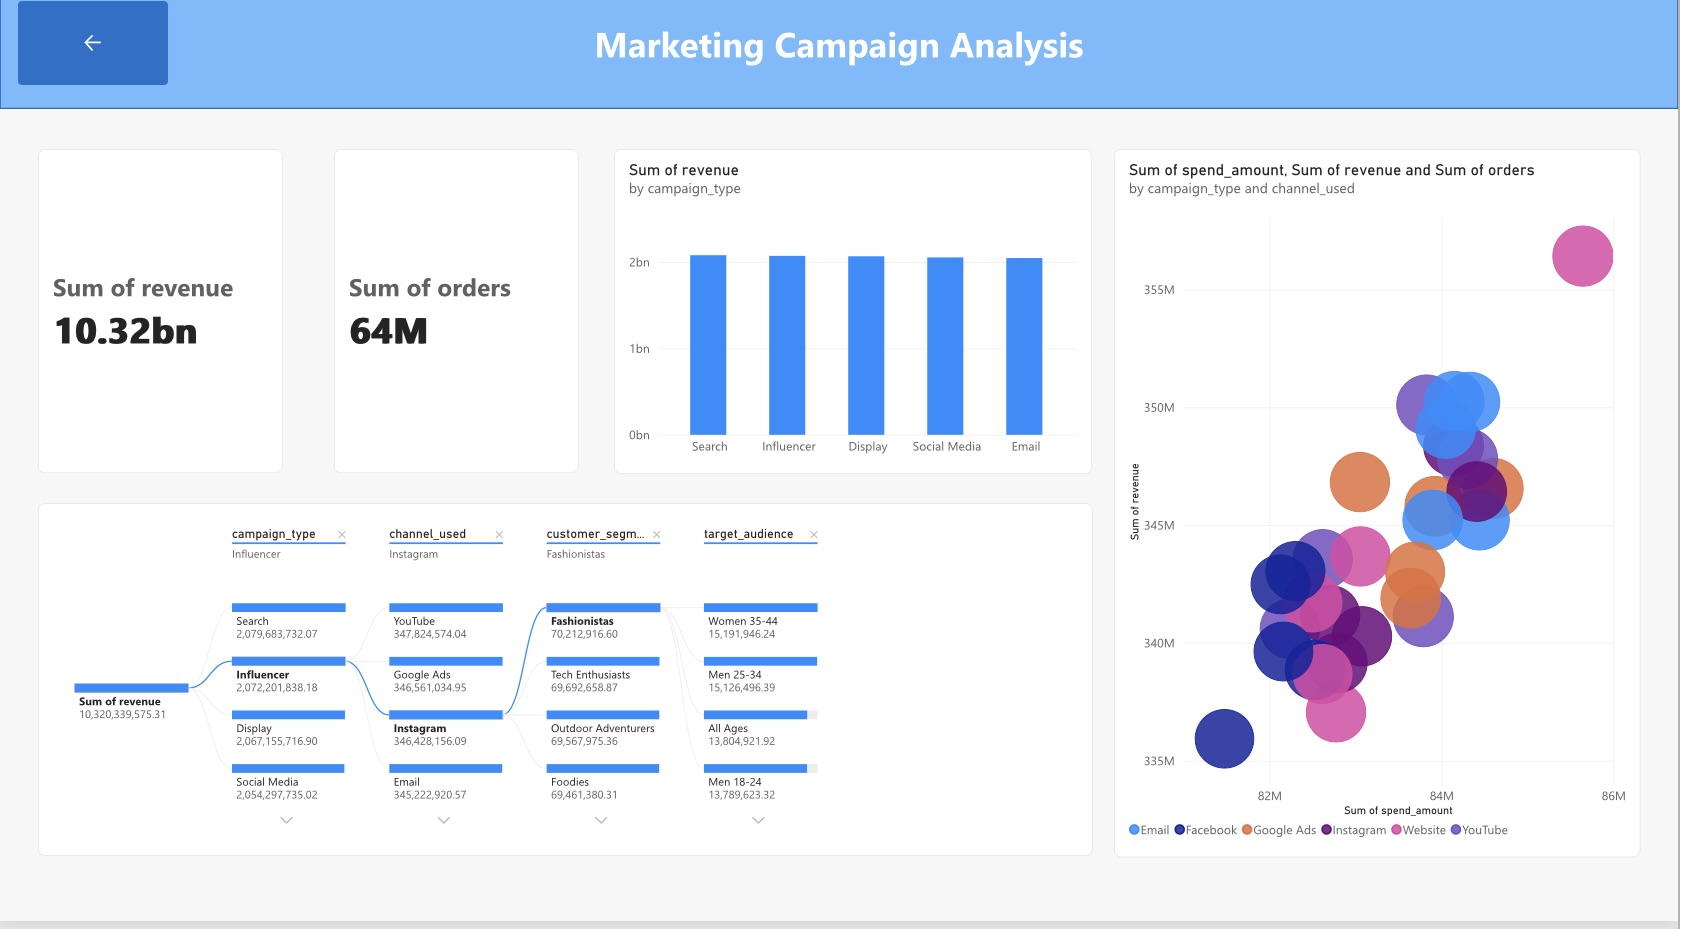

This screenshot's page, from the dashboard's own definition file:
{"tool":"powerbi","page":{"name":"Campaign Details.","canvas":[1920,1080],"ordinal":4},"visuals":[{"type":"cardVisual","fields":{"Data":["Sum(Marketing_Combined 1.revenue)"]},"box":[43.9,196.4,280.3,371.8],"z":0},{"type":"cardVisual","fields":{"Data":["Sum(Marketing_Combined 1.orders)"]},"box":[383.2,196.4,280.3,371.8],"z":1000},{"type":"clusteredColumnChart","fields":{"Category":["Marketing_Combined 1.campaign_type"],"Y":["Sum(Marketing_Combined 1.revenue)"]},"box":[703.6,196.4,547.2,371.8],"z":2000},{"type":"decompositionTreeVisual","fields":{"Analyze":["Sum(Marketing_Combined 1.revenue)"],"ExplainBy":["Marketing_Combined 1.campaign_type","Marketing_Combined 1.channel_used","Marketing_Combined 1.customer_segment","Marketing_Combined 1.target_audience"]},"box":[43.9,602.5,1206.9,404.2],"z":3000},{"type":"scatterChart","fields":{"Category":["Marketing_Combined 1.campaign_type"],"Series":["Marketing_Combined 1.channel_used"],"Size":["Sum(Marketing_Combined 1.orders)"],"X":["Sum(Marketing_Combined 1.spend_amount)"],"Y":["Sum(Marketing_Combined 1.revenue)"]},"box":[1275.6,196.4,602.5,810.3],"z":4000},{"type":"shape","box":[0,0,1920,150.6],"z":5000},{"type":"actionButton","box":[20.6,27.5,171.6,96.1],"z":5001}]}

Visuals, with their boxes in screenshot pixels (x1, y1, x2, y2), scaled from the page's 1920x1080 canvas onto the 1683x929 screenshot:
cardVisual - Sum(Marketing_Combined 1.revenue): bbox=(38, 169, 284, 489)
cardVisual - Sum(Marketing_Combined 1.orders): bbox=(336, 169, 582, 489)
clusteredColumnChart - Marketing_Combined 1.campaign_type x Sum(Marketing_Combined 1.revenue): bbox=(617, 169, 1096, 489)
decompositionTreeVisual - Sum(Marketing_Combined 1.revenue) x Marketing_Combined 1.campaign_type: bbox=(38, 518, 1096, 866)
scatterChart - Marketing_Combined 1.campaign_type x Marketing_Combined 1.channel_used: bbox=(1118, 169, 1646, 866)
shape: bbox=(0, 0, 1682, 130)
actionButton: bbox=(18, 24, 168, 106)
